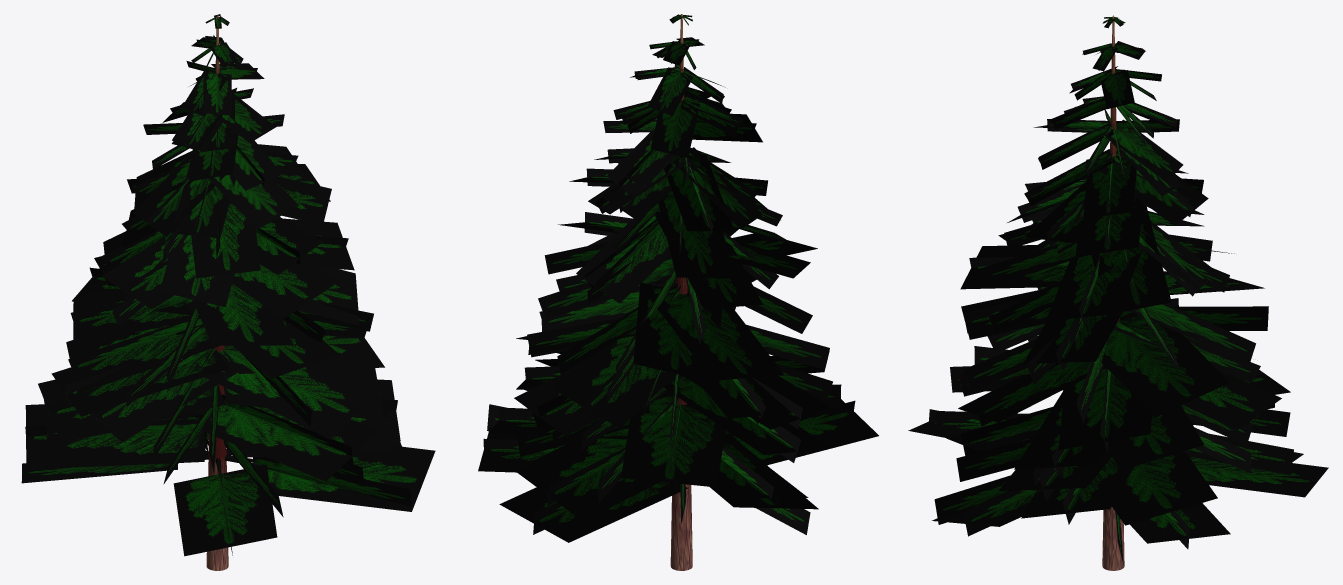
The model's file is Tree.glb.
3 views of the same model, side by side, from view 1: azimuth 30°, elevation 25°; view 2: azimuth 150°, elevation 25°; view 3: azimuth 270°, elevation 25° (orthographic).
Visible parts, largest first — view 1: Branches, Base; view 2: Branches, Base; view 3: Branches, Base.
Boxes of the visible parts, bbox=[...] form: Branches: bbox=[21, 14, 435, 556]; Base: bbox=[206, 15, 228, 570]; Branches: bbox=[478, 14, 878, 542]; Base: bbox=[670, 14, 692, 570]; Branches: bbox=[908, 15, 1328, 564]; Base: bbox=[1102, 16, 1124, 570].
Bounding box in the file's own units: 3.46 × 4.99 × 3.46.
2 materials, 2 textured.
